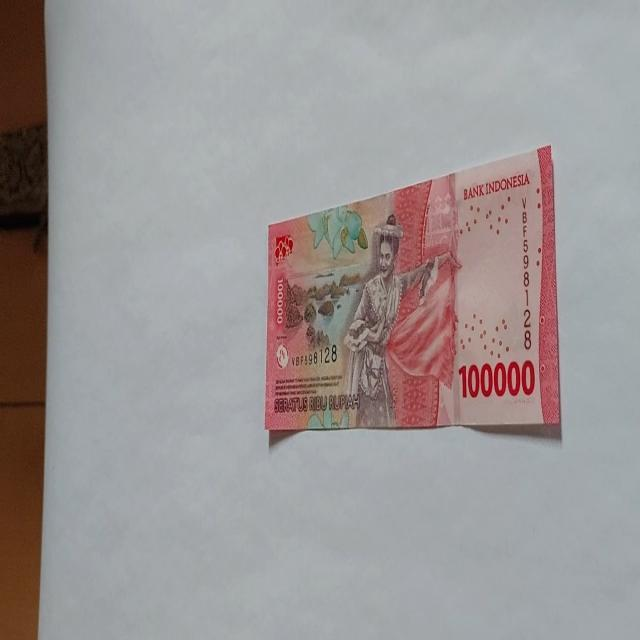seratus ribu rupiah: (264, 146, 562, 449), (341, 212, 442, 428)
